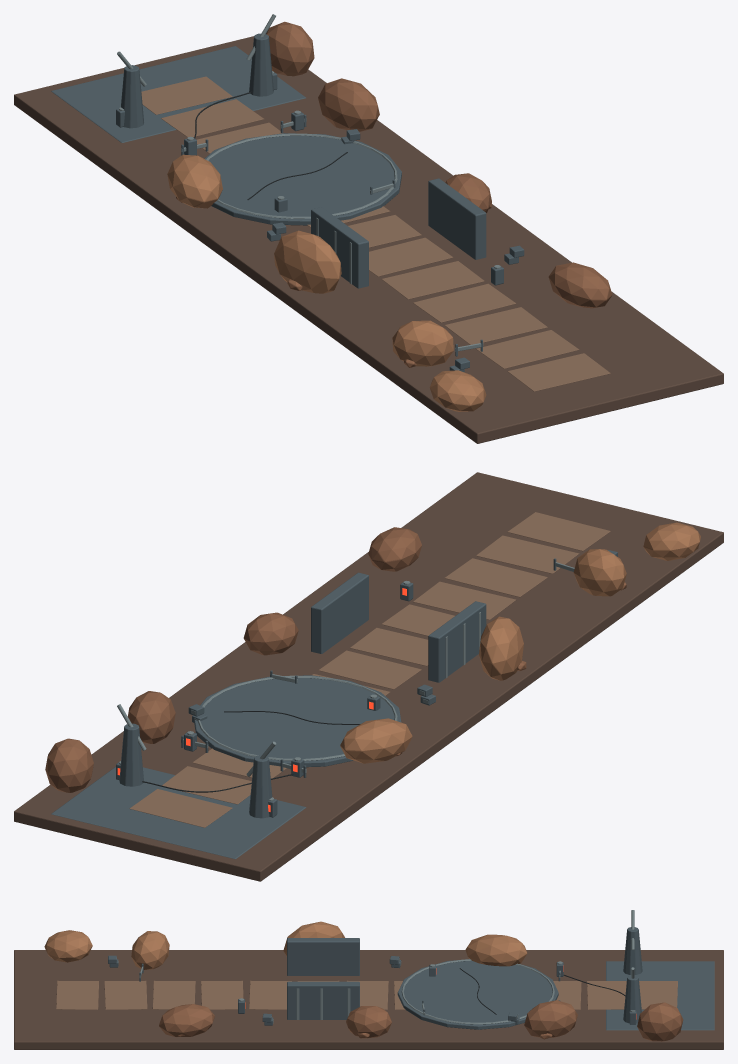
The model's file is outpost-kit.glb.
3 views of the same model, one above another, from view 1: azimuth 30°, elevation 25°; view 2: azimuth 150°, elevation 25°; view 3: azimuth 270°, elevation 25° (orthographic). The views are drawn at different scales.
Visible parts, largest first — view 1: Ground_Main, RaisedPlatform, BeaconDeck, OutpostWall_5.7, RockFormation_03, RockFormation_06, OutpostWall_-5.7, RockFormation_05, RockFormation_01, RockFormation_02, PathSlab_03, PathSlab_04 (+14 smaller); view 2: Ground_Main, RaisedPlatform, BeaconDeck, OutpostWall_5.7, OutpostWall_-5.7, RockFormation_05, RockFormation_03, PathSlab_06, PathSlab_02, PathSlab_00, PathSlab_12, RockFormation_08 (+14 smaller); view 3: Ground_Main, RaisedPlatform, BeaconDeck, OutpostWall_-5.7, OutpostWall_5.7, RockFormation_05, RockFormation_06, RockFormation_02, RockFormation_08, PathSlab_00, PathSlab_01, RockFormation_07 (+13 smaller).
Part boxes in pixels (bbox=[...]): Ground_Main: bbox=[14, 36, 723, 443]; RaisedPlatform: bbox=[204, 133, 401, 225]; BeaconDeck: bbox=[51, 46, 305, 142]; OutpostWall_5.7: bbox=[428, 178, 486, 259]; RockFormation_03: bbox=[274, 230, 341, 293]; RockFormation_06: bbox=[318, 78, 379, 131]; OutpostWall_-5.7: bbox=[311, 207, 368, 288]; RockFormation_05: bbox=[167, 154, 222, 208]; RockFormation_01: bbox=[392, 320, 453, 366]; RockFormation_02: bbox=[548, 262, 612, 308]; PathSlab_03: bbox=[413, 283, 516, 322]; PathSlab_04: bbox=[381, 261, 484, 299]; Ground_Main: bbox=[14, 472, 723, 881]; RaisedPlatform: bbox=[194, 675, 401, 767]; BeaconDeck: bbox=[51, 766, 306, 859]; OutpostWall_5.7: bbox=[311, 572, 368, 653]; OutpostWall_-5.7: bbox=[428, 601, 486, 682]; RockFormation_05: bbox=[340, 718, 412, 763]; RockFormation_03: bbox=[479, 616, 523, 680]; PathSlab_06: bbox=[318, 650, 421, 689]; PathSlab_02: bbox=[445, 558, 547, 597]; PathSlab_00: bbox=[508, 512, 610, 551]; PathSlab_12: bbox=[129, 789, 232, 827]; RockFormation_08: bbox=[45, 738, 93, 792]; Ground_Main: bbox=[14, 950, 723, 1049]; RaisedPlatform: bbox=[397, 959, 558, 1029]; BeaconDeck: bbox=[606, 961, 714, 1030]; OutpostWall_-5.7: bbox=[287, 938, 359, 975]; OutpostWall_5.7: bbox=[287, 981, 359, 1019]; RockFormation_05: bbox=[465, 934, 527, 966]; RockFormation_06: bbox=[524, 1000, 577, 1037]; RockFormation_02: bbox=[159, 1004, 214, 1037]; RockFormation_08: bbox=[637, 1002, 683, 1041]; PathSlab_00: bbox=[56, 980, 98, 1009]; PathSlab_01: bbox=[104, 980, 147, 1009]; RockFormation_07: bbox=[44, 930, 92, 962].
Bounding box in the file's own units: 25.33 × 7.93 × 78.
